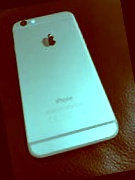iphone: (18, 12, 112, 153)
